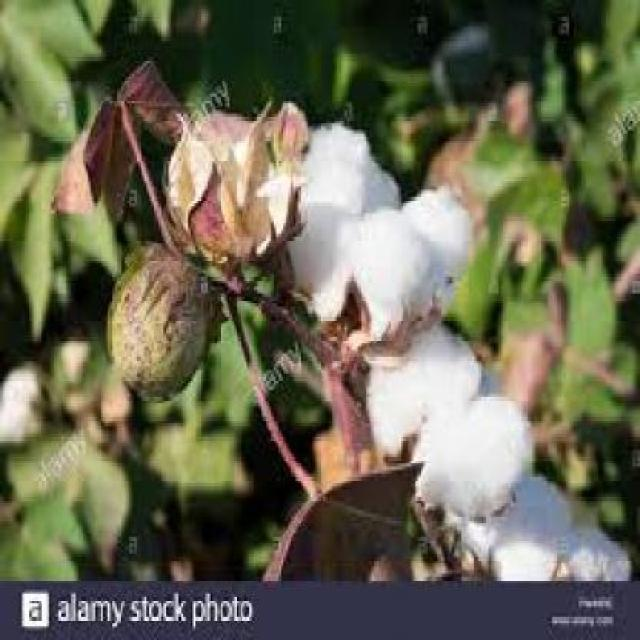cotton_ready: (249, 113, 483, 353), (349, 333, 562, 547), (460, 476, 628, 584)
